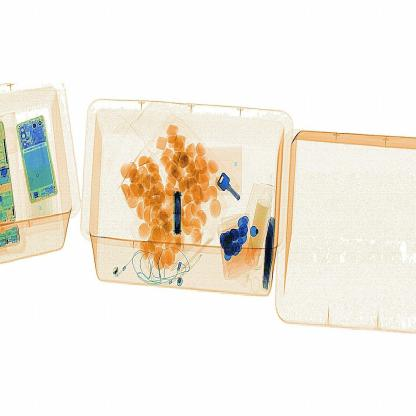scissors: (169, 185, 190, 240)
